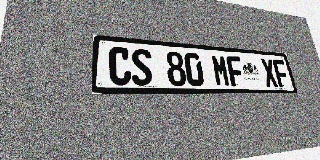0: (184, 52, 204, 86)
8: (166, 51, 187, 86)
C: (109, 46, 131, 85)
F: (226, 56, 246, 87), (272, 59, 290, 87)
M: (211, 54, 231, 86)
S: (131, 48, 153, 86)
X: (260, 58, 279, 87)
